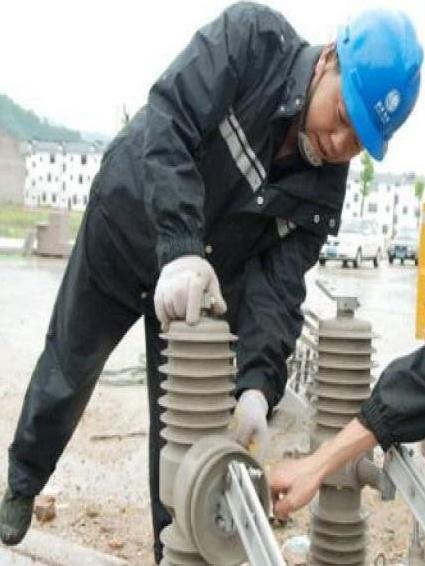boots: (0, 485, 35, 545)
gloves: (153, 254, 228, 332), (228, 389, 270, 465)
hard-hat: (334, 7, 424, 162)
ppe-suit: (0, 0, 351, 562)
